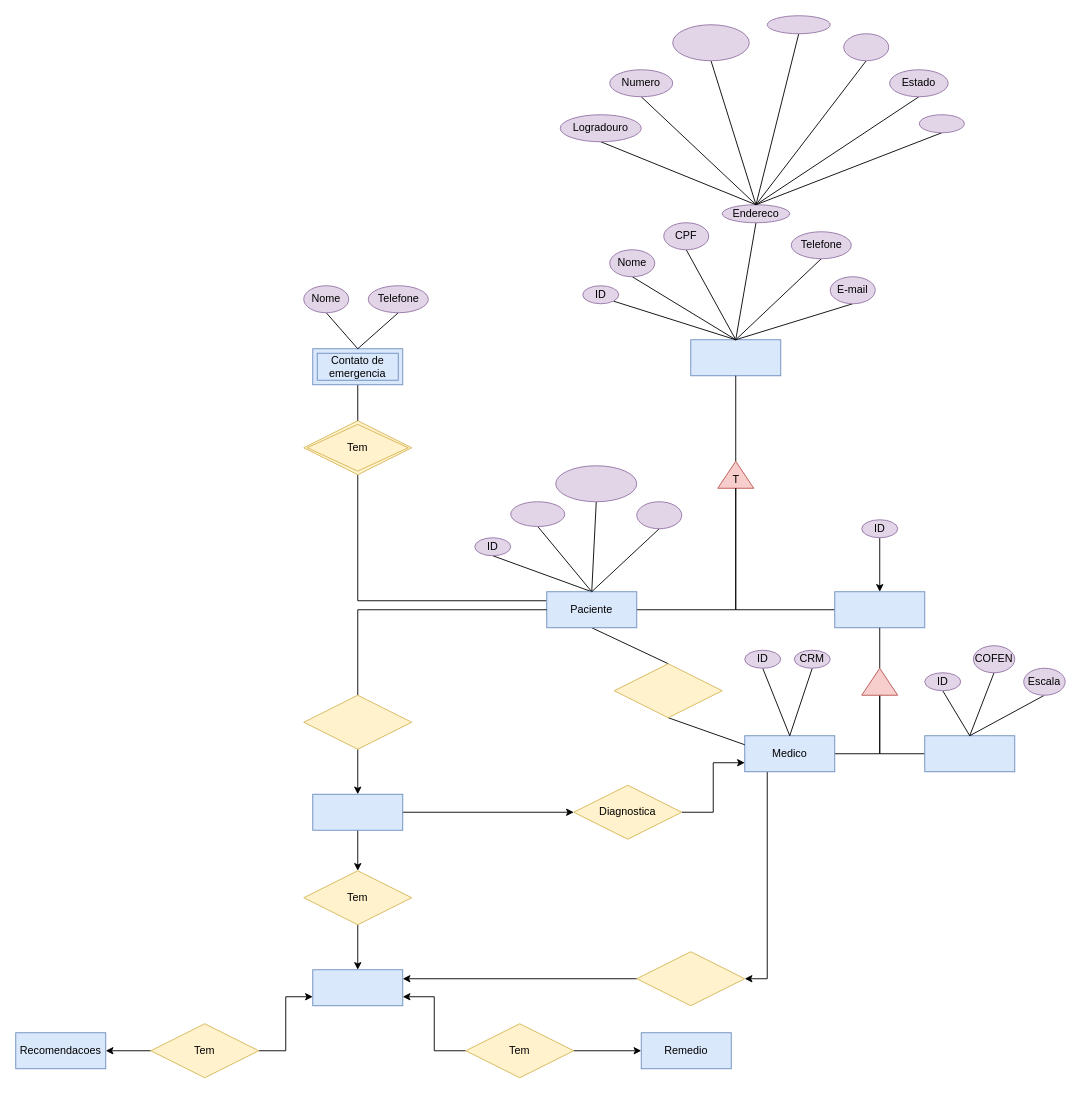
The diagram is 1081 pixels wide and 1094 high, and some of its shapes have lost their labels. Here are the shapes that lost their labels. From the top down, the centre of each, then its label:
At point (710, 42): "Complemento".
At point (798, 24): "Bairro".
At point (866, 47): "Cidade".
At point (941, 123): "Pais".
At point (735, 357): "Pessoa".
At point (596, 483): "Data de internacao".
At point (537, 513): "Convenio".
At point (659, 515): "Sexo".
At point (879, 609): "Profissional".
At point (667, 690): "Consulta".
At point (357, 721): "Apresenta".
At point (969, 753): "Enfermeiro".
At point (357, 811): "Doenca".
At point (357, 987): "Tratamento".
At point (690, 978): "Prescreve/indica".
